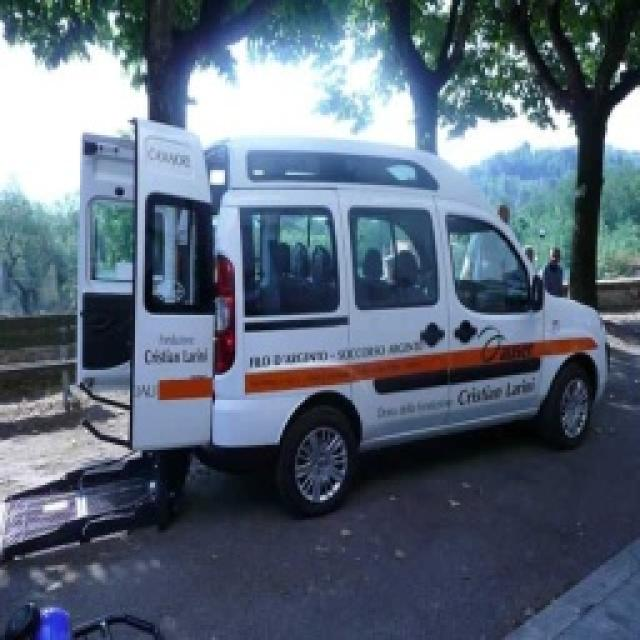emergency-vehicle: (46, 109, 613, 499)
